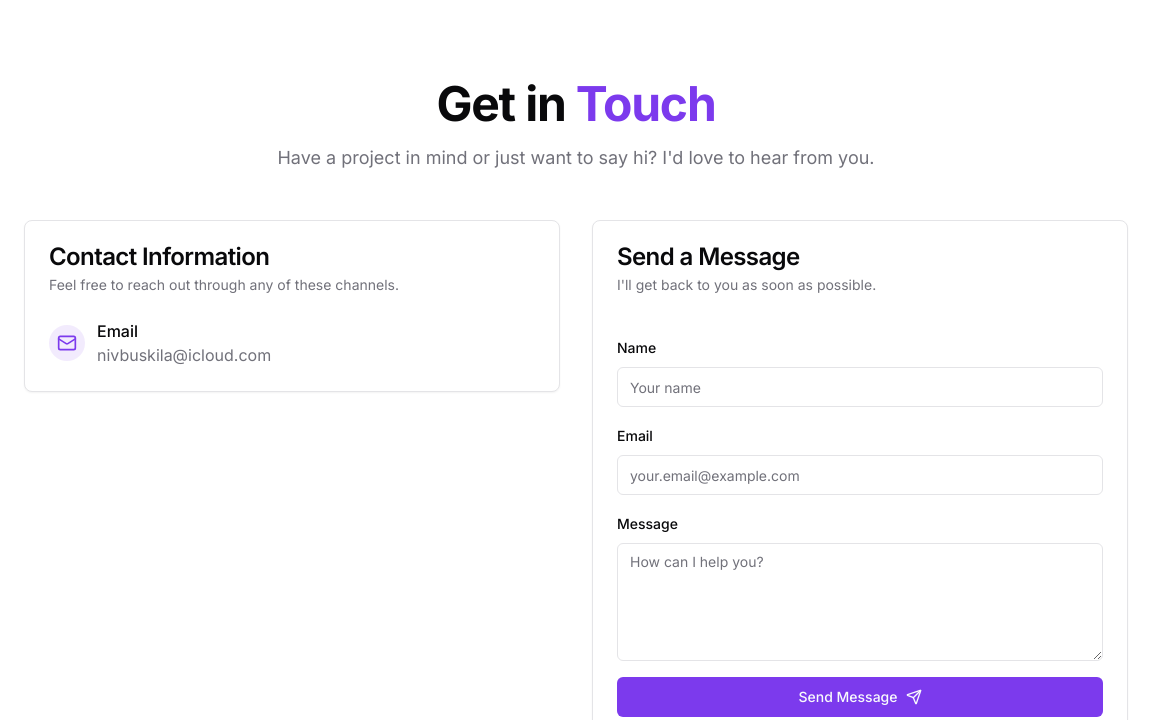
Test: Contact › disables submit button when form is invalid
Try to submit empty form
Click the button "Send Message" at {"x": 860, "y": 697}, box [617,677,1103,717]
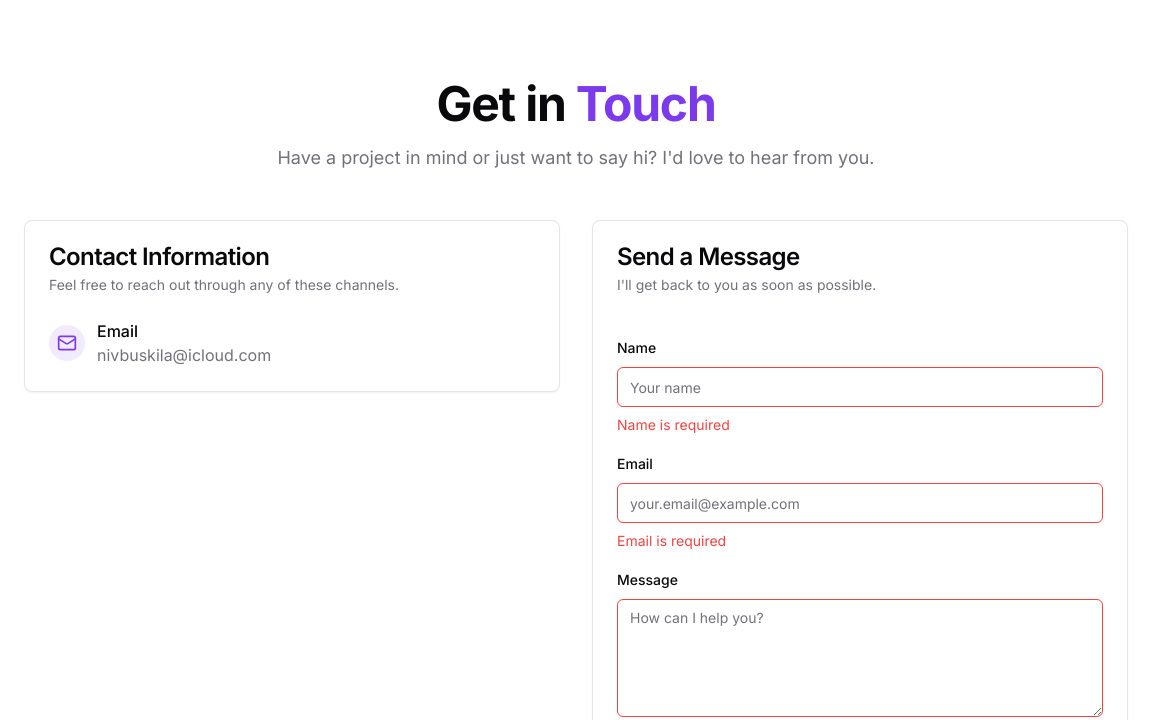
Check: the text "Name is required" is shown, box [617,416,730,433]
